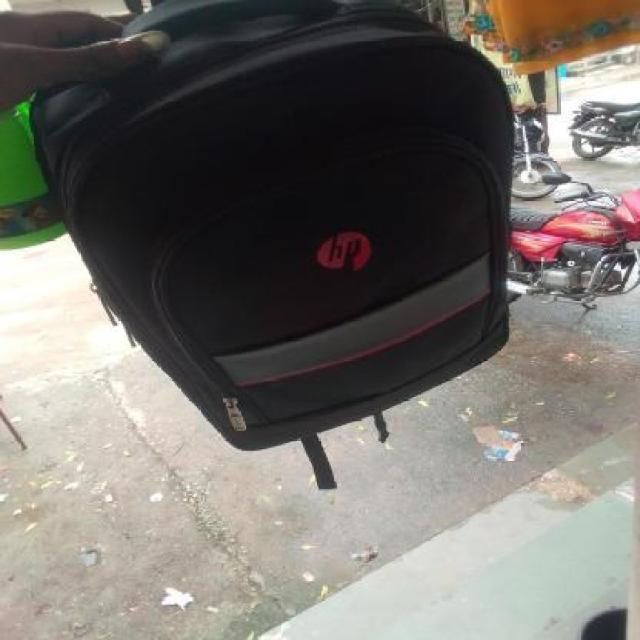backpack: (23, 0, 517, 458)
